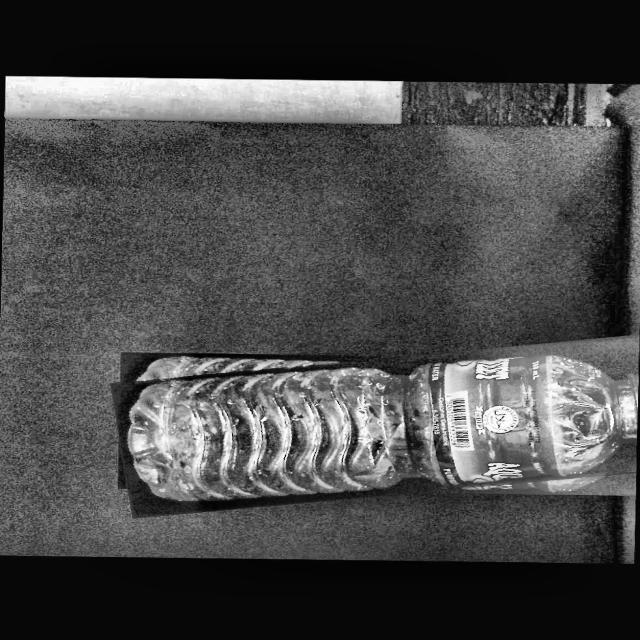Plastic-Bottle: (111, 338, 640, 511)
